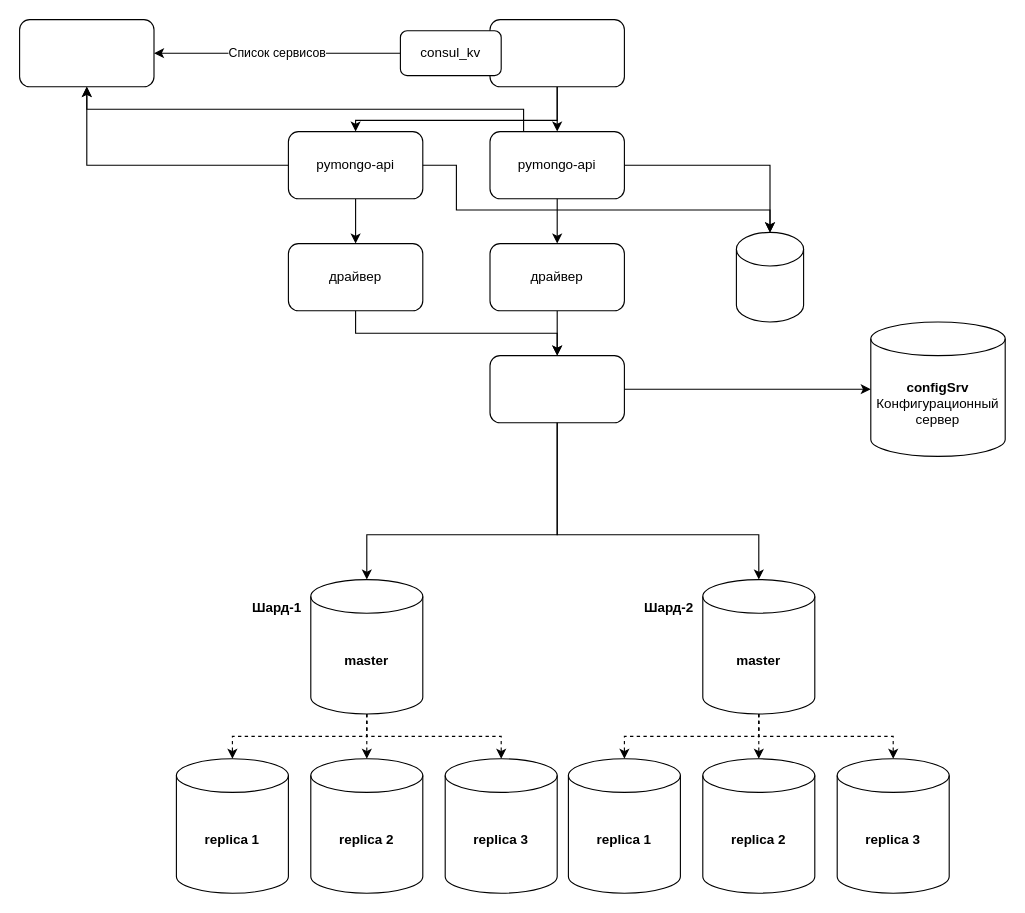
Image size: 1025x913. Some labels were removed from this diagram. Here are the shapes that lost their labels. From the top down, the centre of each, then its label:
At (x=86, y=52): "Consul".
At (x=556, y=52): "API Gateway".
At (x=769, y=276): "Redis".
At (x=556, y=388): "mongos (router)".
